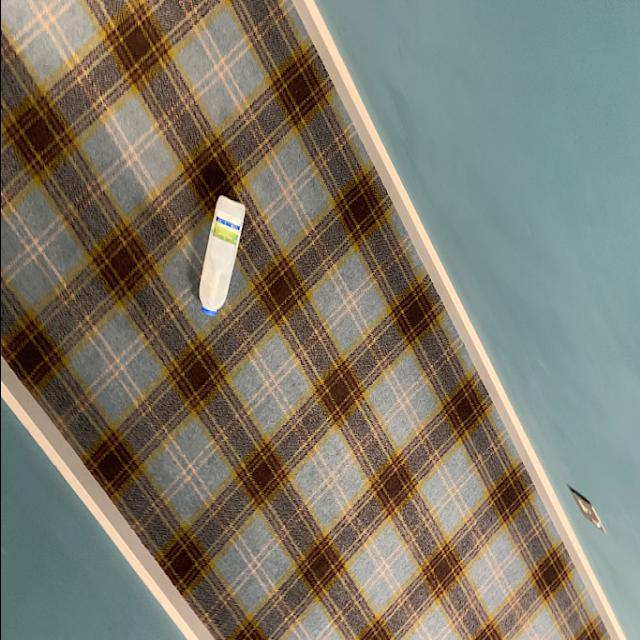litter: (193, 192, 246, 322)
